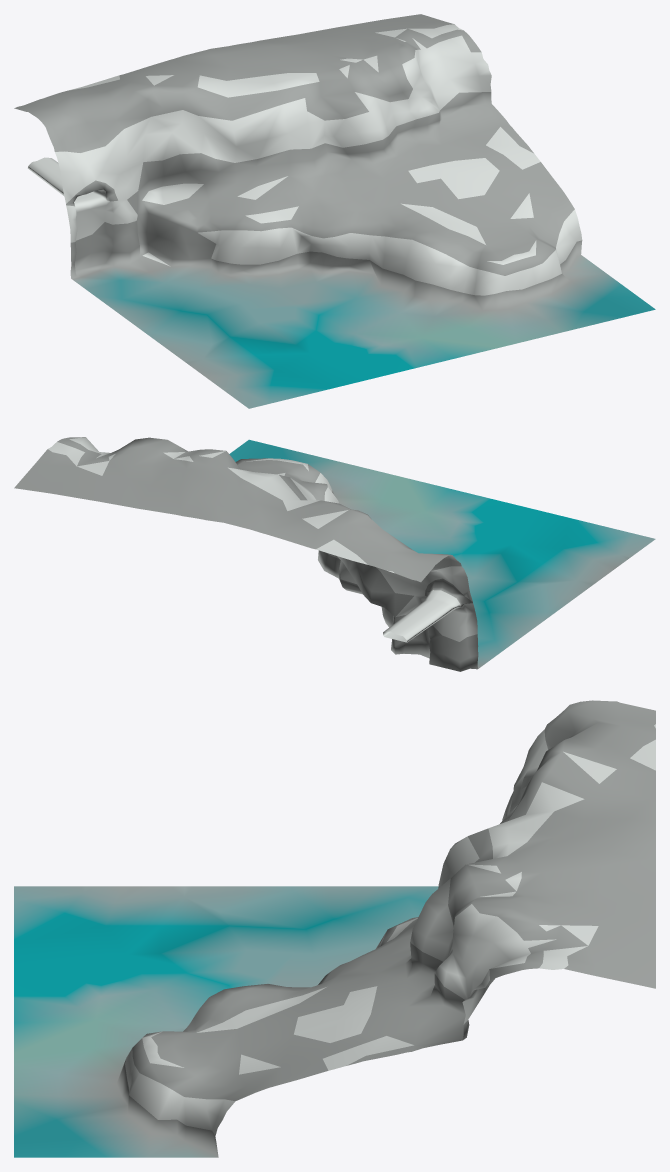
The picture shows the model from 3 angles, top to bottom: view 1: azimuth 30°, elevation 25°; view 2: azimuth 150°, elevation 25°; view 3: azimuth 270°, elevation 25°; orthographic projection. The views are drawn at different scales.
Parts seen in each view (by area): view 1: G:\FFXIV-MapTools\exports\n5f1\bg\ex4\01_nvt_n5\fld\n5f1\bgp (×12); view 2: G:\FFXIV-MapTools\exports\n5f1\bg\ex4\01_nvt_n5\fld\n5f1\bgp (×12); view 3: G:\FFXIV-MapTools\exports\n5f1\bg\ex4\01_nvt_n5\fld\n5f1\bgp (×11).
Boxes of the visible parts, x1,y1,x2,y2 form: G:\FFXIV-MapTools\exports\n5f1\bg\ex4\01_nvt_n5\fld\n5f1\bgp (×12): (14, 14, 655, 408); G:\FFXIV-MapTools\exports\n5f1\bg\ex4\01_nvt_n5\fld\n5f1\bgp (×12): (14, 437, 655, 671); G:\FFXIV-MapTools\exports\n5f1\bg\ex4\01_nvt_n5\fld\n5f1\bgp (×11): (14, 700, 655, 1157).
Bounding box in the file's own units: 128 × 45.17 × 128.
